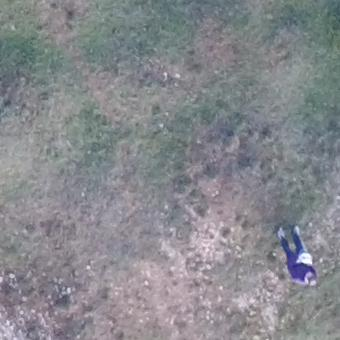human: (276, 223, 321, 288)
